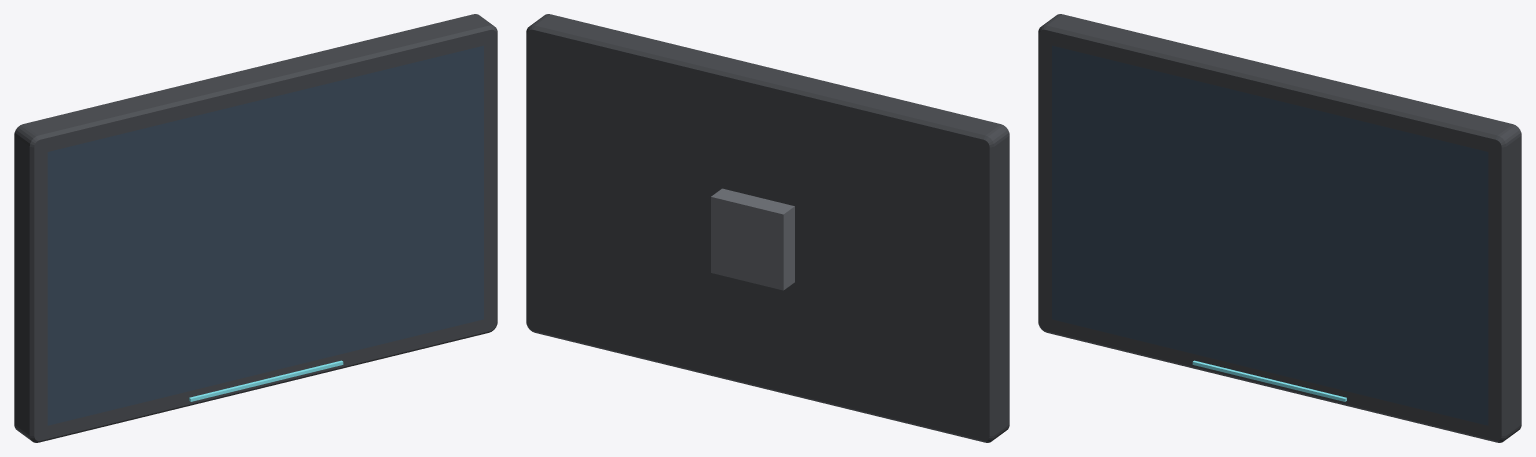
Rendered from Garage_Monitor_Flat.glb.
3 views of the same model, side by side, from view 1: azimuth 30°, elevation 25°; view 2: azimuth 150°, elevation 25°; view 3: azimuth 330°, elevation 25° (orthographic).
Parts seen in each view (by area): view 1: Garage_Monitor_Flat; view 2: Garage_Monitor_Flat; view 3: Garage_Monitor_Flat.
Boxes of the visible parts, x1,y1,x2,y2 form: Garage_Monitor_Flat: (14,14,497,442); Garage_Monitor_Flat: (526,14,1009,442); Garage_Monitor_Flat: (1038,14,1521,442).
Bounding box in the file's own units: 0.644 × 0.404 × 0.076.
